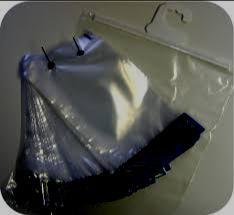Plastic: (15, 37, 208, 214)
